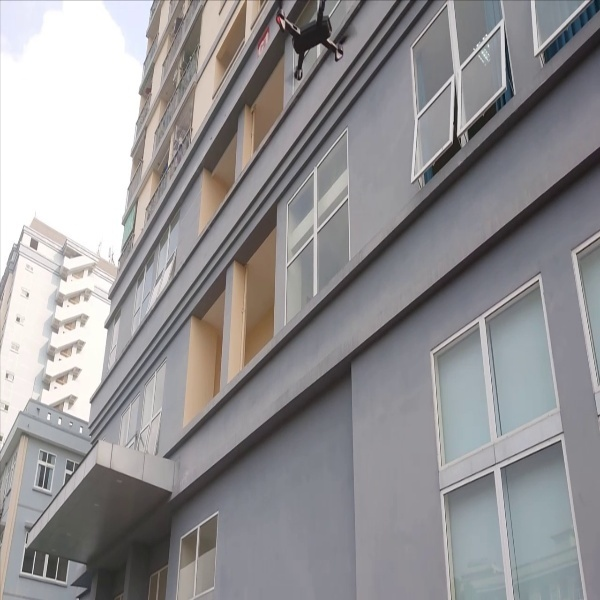drone: (263, 1, 356, 97)
